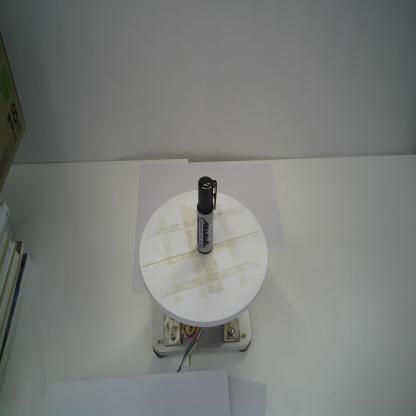Stationery: (196, 176, 217, 256)
